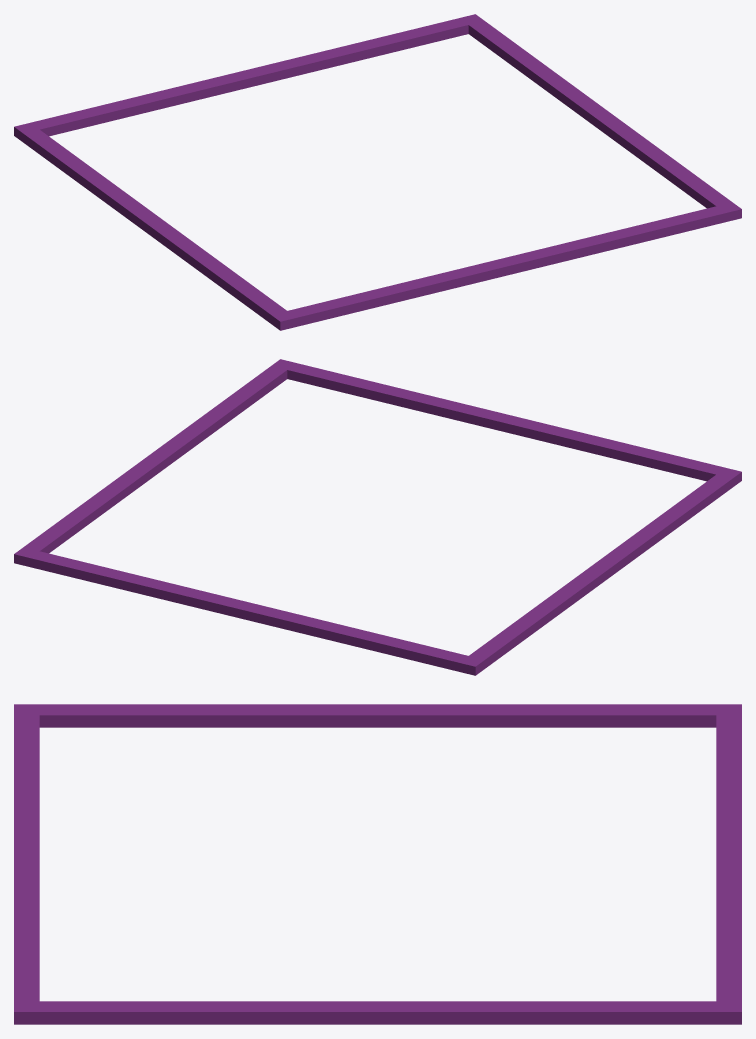
The model's file is frame-skin-9.glb.
3 views of the same model, one above another, from view 1: azimuth 30°, elevation 25°; view 2: azimuth 150°, elevation 25°; view 3: azimuth 270°, elevation 25° (orthographic). The views are drawn at different scales.
Visible parts, largest first — view 1: frame-skin-9; view 2: frame-skin-9; view 3: frame-skin-9.
Part boxes in pixels (bbox=[...]): frame-skin-9: bbox=[14, 14, 741, 330]; frame-skin-9: bbox=[14, 359, 741, 675]; frame-skin-9: bbox=[14, 704, 741, 1024].
Bounding box in the file's own units: 17 × 0.32 × 17.
Materials: 1 (1 with a texture image).
